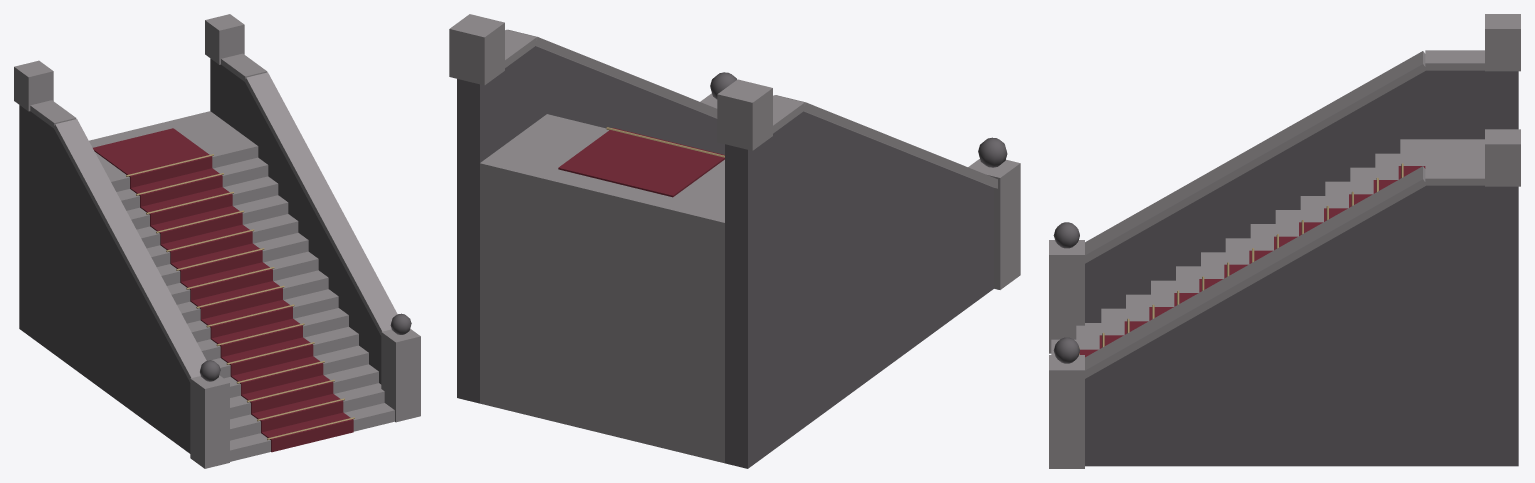
File: staircase.glb
3 views of the same model, side by side, from view 1: azimuth 30°, elevation 25°; view 2: azimuth 150°, elevation 25°; view 3: azimuth 270°, elevation 25° (orthographic). The views are drawn at different scales.
Parts seen in each view (by area): view 1: Staircase; view 2: Staircase; view 3: Staircase.
Boxes of the visible parts, x1,y1,x2,y2 form: Staircase: [14, 14, 420, 468]; Staircase: [449, 14, 1020, 468]; Staircase: [1049, 14, 1520, 468].
Bounding box in the file's own units: 3.96 × 4.6 × 6.06.
